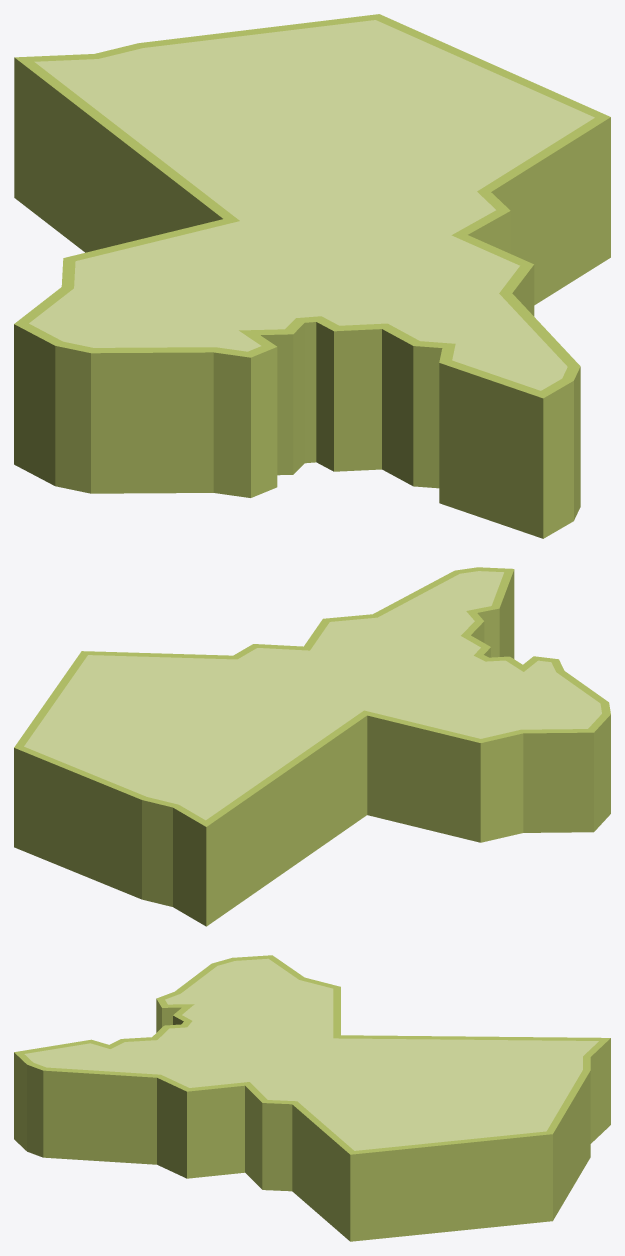
File: Islands2.003.fbx
3 views of the same model, one above another, from view 1: azimuth 30°, elevation 25°; view 2: azimuth 150°, elevation 25°; view 3: azimuth 270°, elevation 25° (orthographic). The views are drawn at different scales.
Visible parts, largest first — view 1: Island2.003; view 2: Island2.003; view 3: Island2.003.
Boxes of the visible parts, x1,y1,x2,y2 form: Island2.003: [14, 14, 610, 538]; Island2.003: [14, 567, 610, 926]; Island2.003: [14, 955, 610, 1241].
Size of the model in its own units: 123 by 25 by 155.
